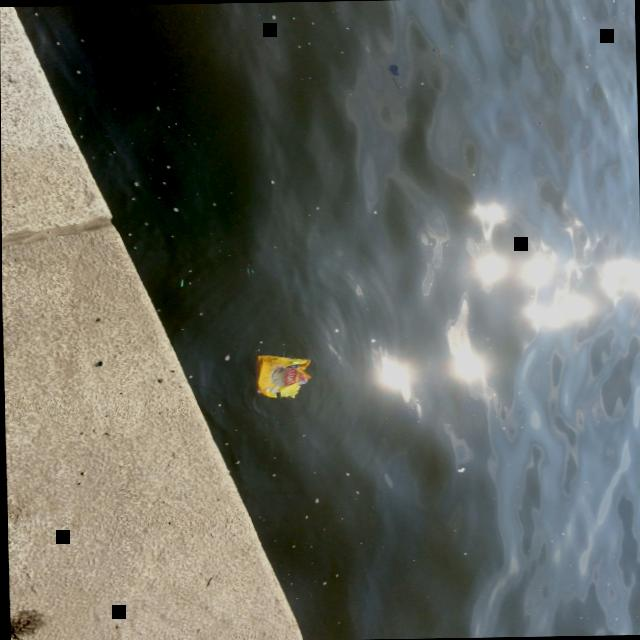Other plastic bottle: (180, 278, 183, 285)
Plastic film: (255, 354, 310, 397)
Unlabeled litter: (247, 268, 249, 274), (251, 268, 253, 271)
